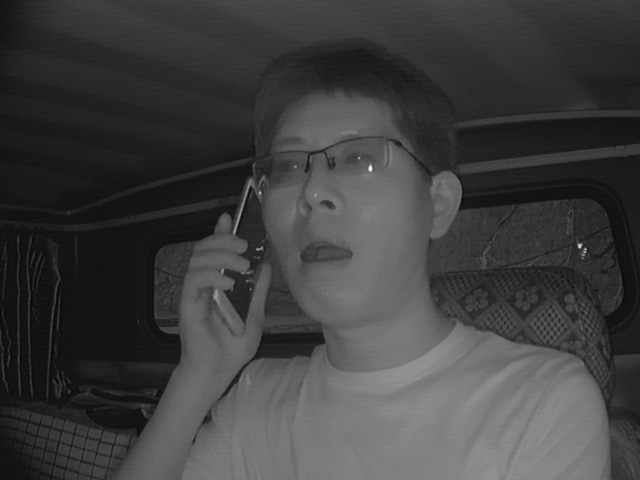hand: (173, 214, 271, 370)
